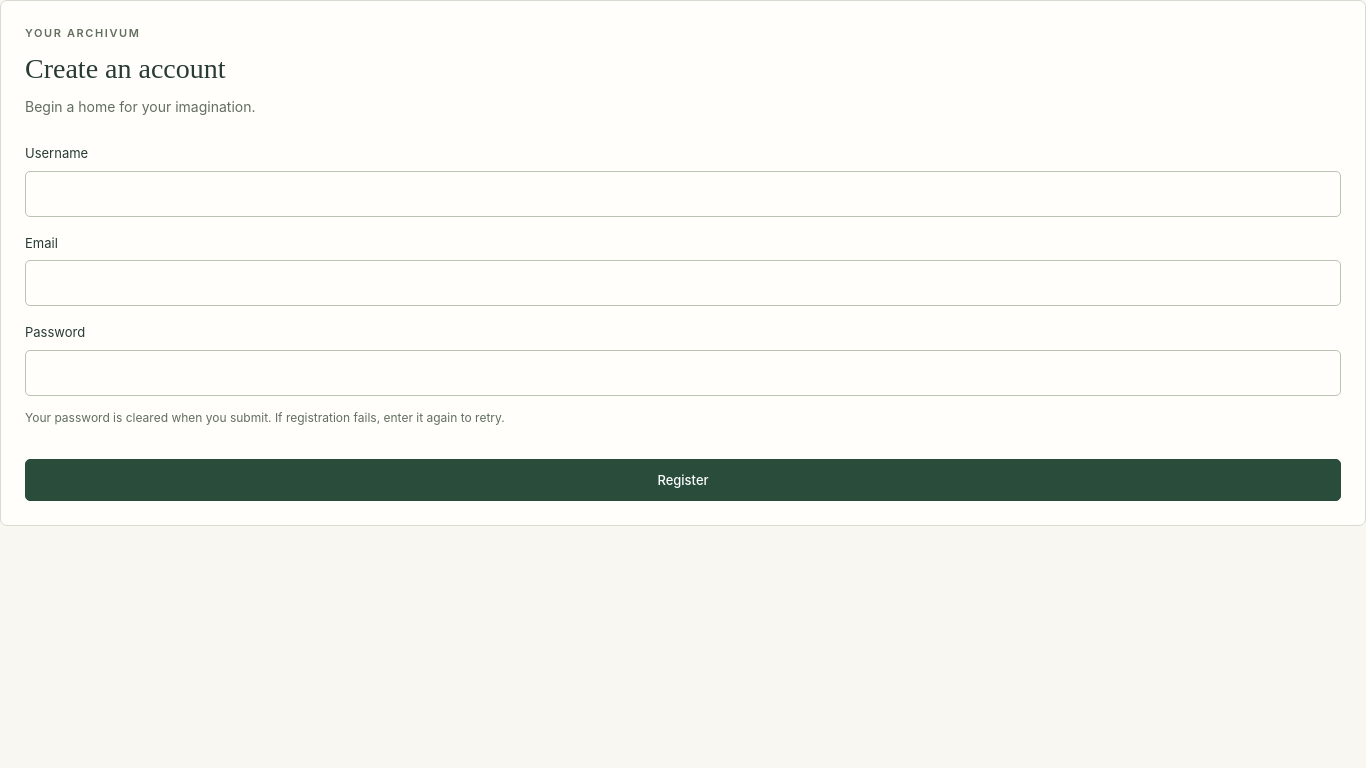
Test case: clears the password immediately, disables fields, and prevents duplicate in-flight requests
Type "  Archivist  " into the field labelled "Username" at (683, 194), box top-left (25, 171), bottom-right (1341, 217)
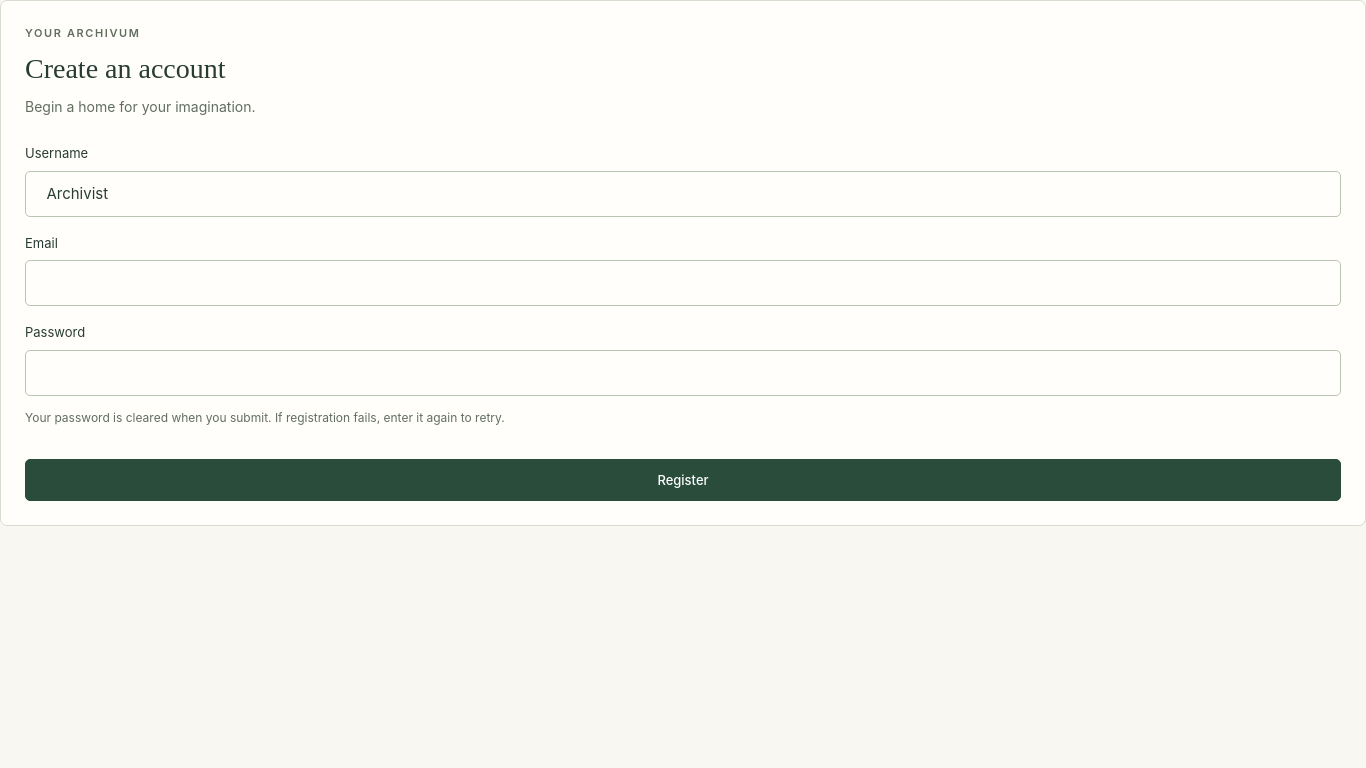
Type "archivist@example.com" into the field labelled "Email" at (683, 283), box top-left (25, 260), bottom-right (1341, 306)
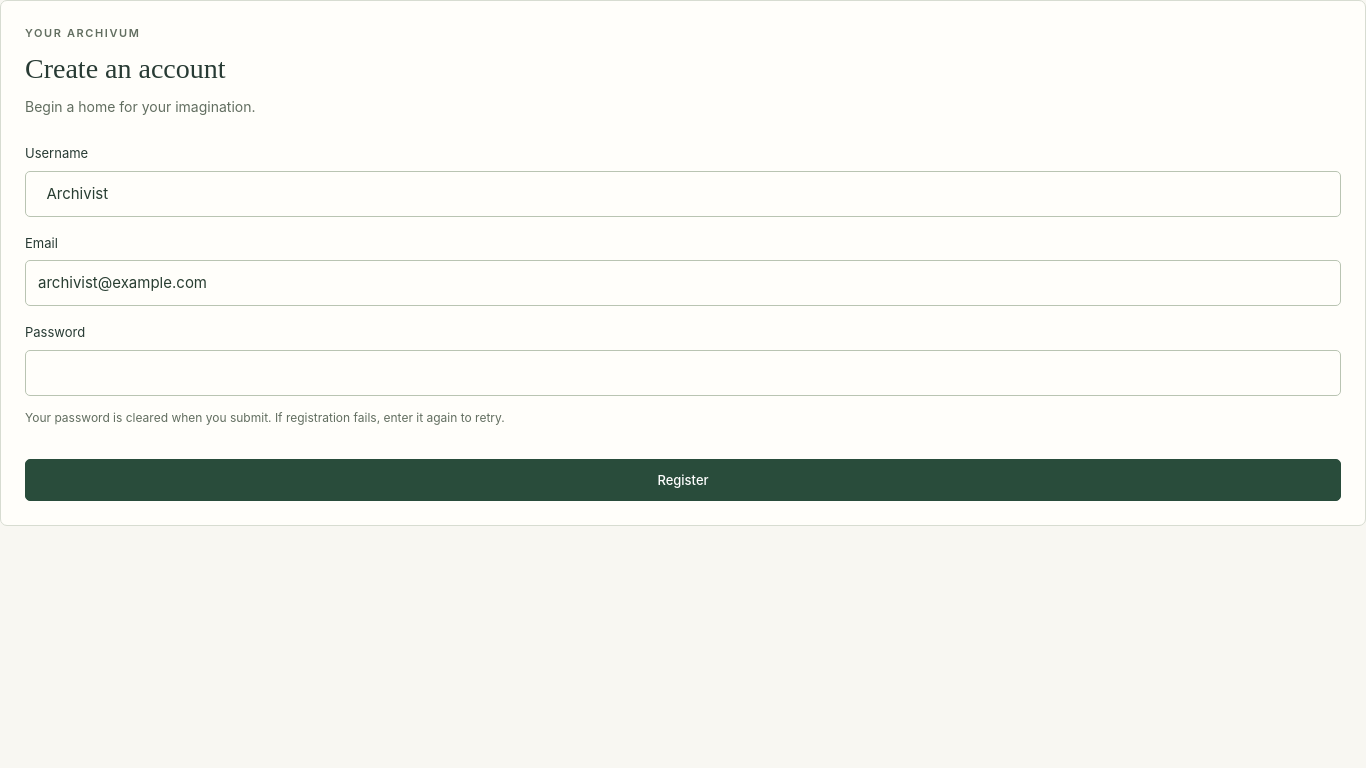
Type "test-only-password" into the password field labelled "Password" at (683, 373), box top-left (25, 350), bottom-right (1341, 396)
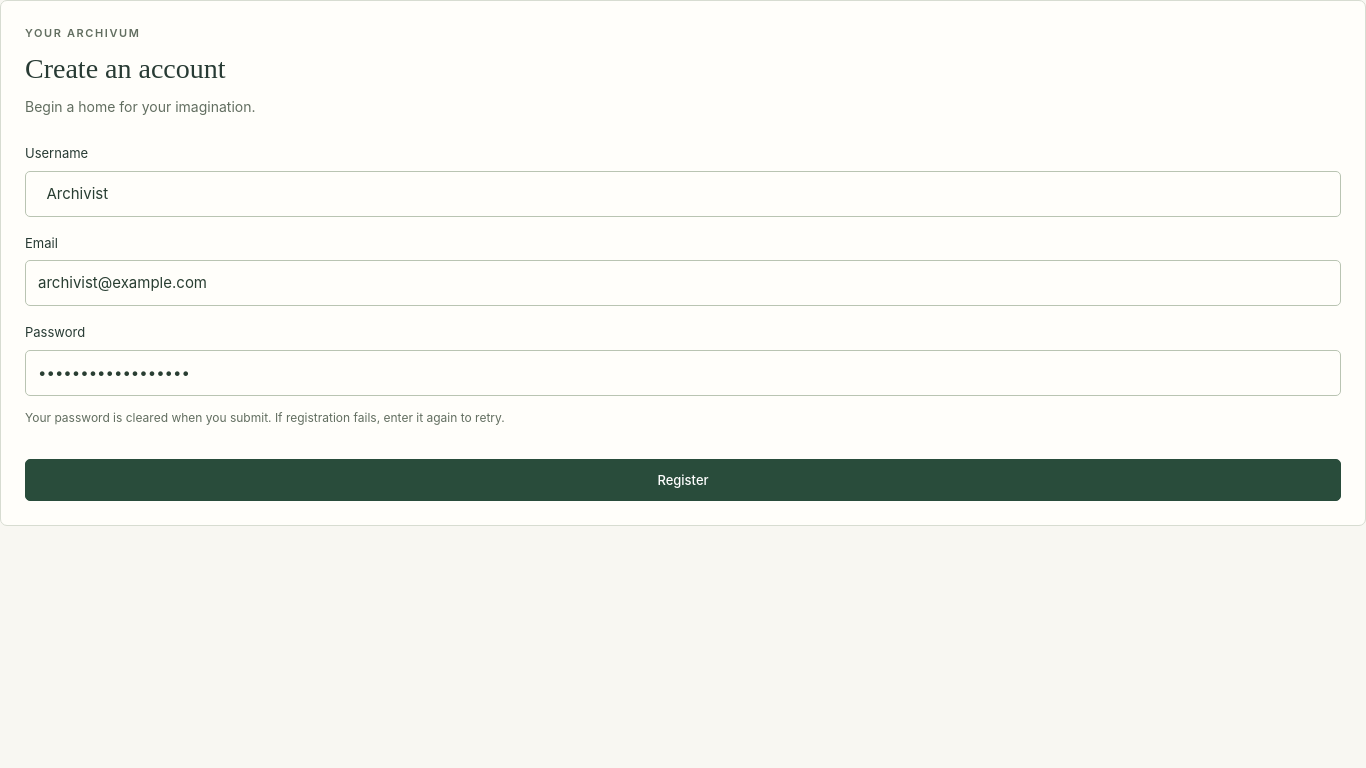
Submit the form, box top-left (25, 143), bottom-right (1341, 501)
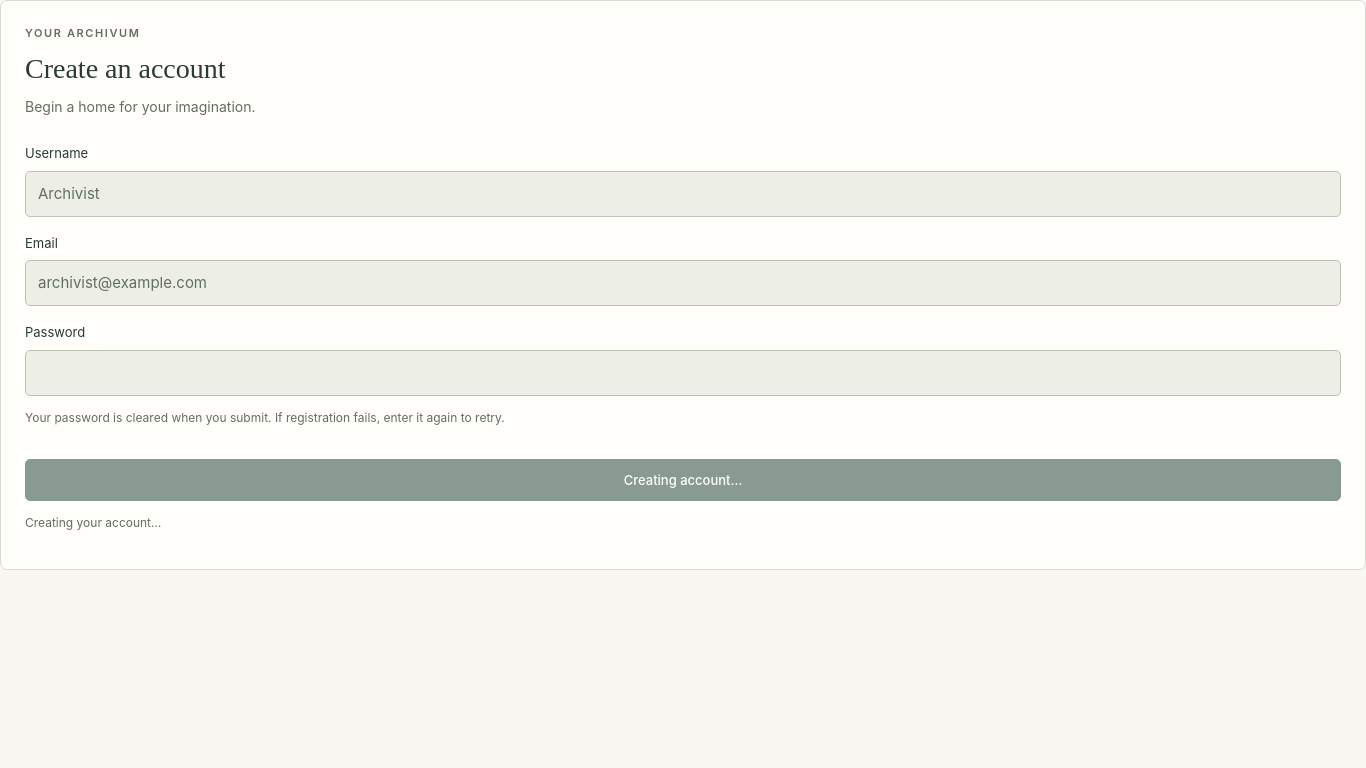
Check: the element showing "Username Email Password" is disabled, box top-left (25, 143), bottom-right (1341, 396)
Check: the button "Creating account…" is disabled, box top-left (25, 459), bottom-right (1341, 501)
Check: the message "Creating your account…" is shown, box top-left (25, 515), bottom-right (161, 530)
Submit the form, box top-left (25, 143), bottom-right (1341, 533)
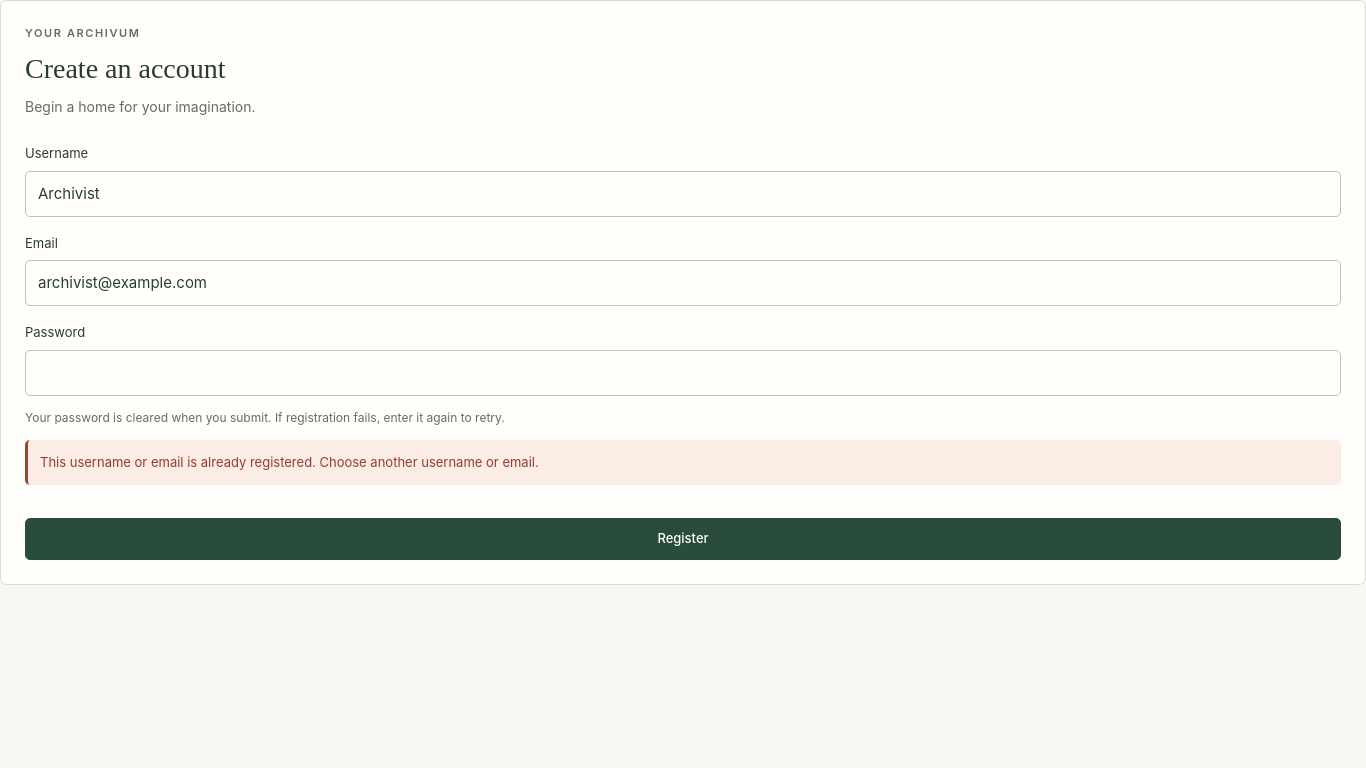
Check: the button "Register" is enabled, box top-left (25, 518), bottom-right (1341, 560)
